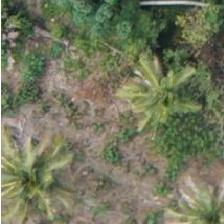coconut_tree: (117, 50, 207, 140), (0, 130, 73, 220), (164, 174, 223, 223)
